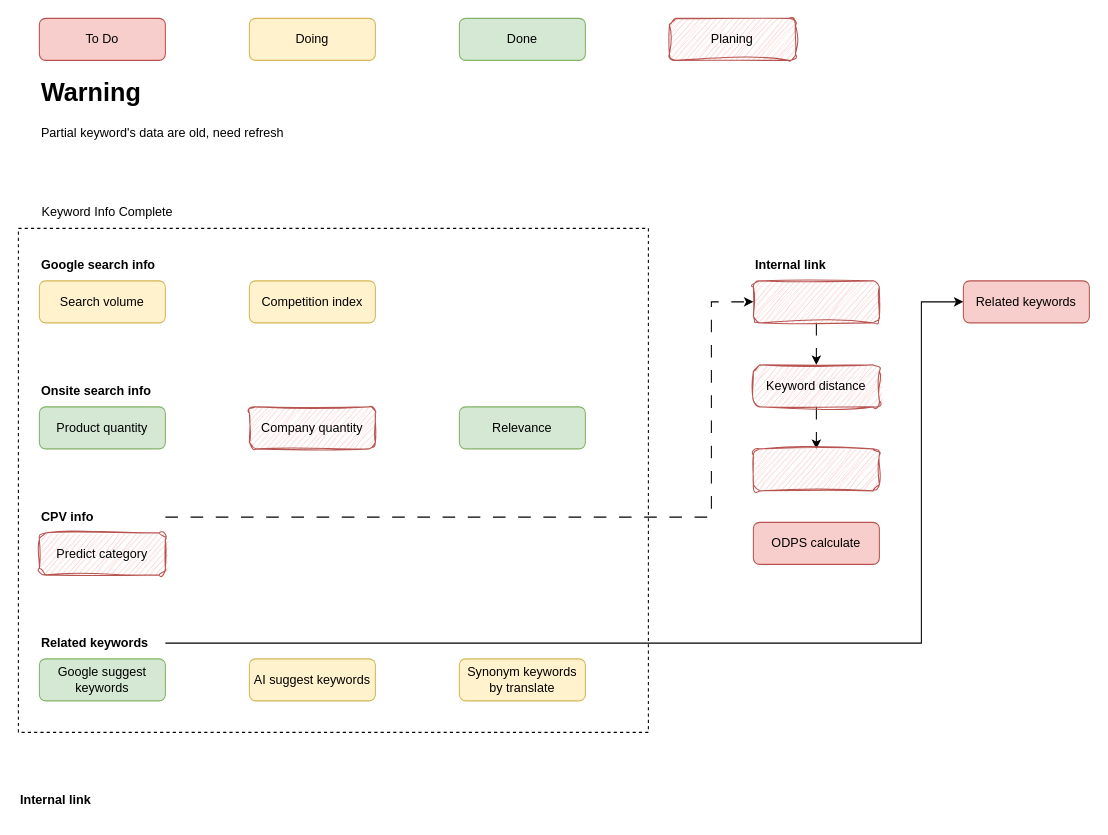
This 1108x835 diagram has some shape labels left out. The shapes that lost their labels are listed below. From the top down, each one's box as (x1, y1, x2, y2) in pixels, then its label:
(752, 280, 879, 323): Same cate keywords
(752, 448, 879, 491): Top N
